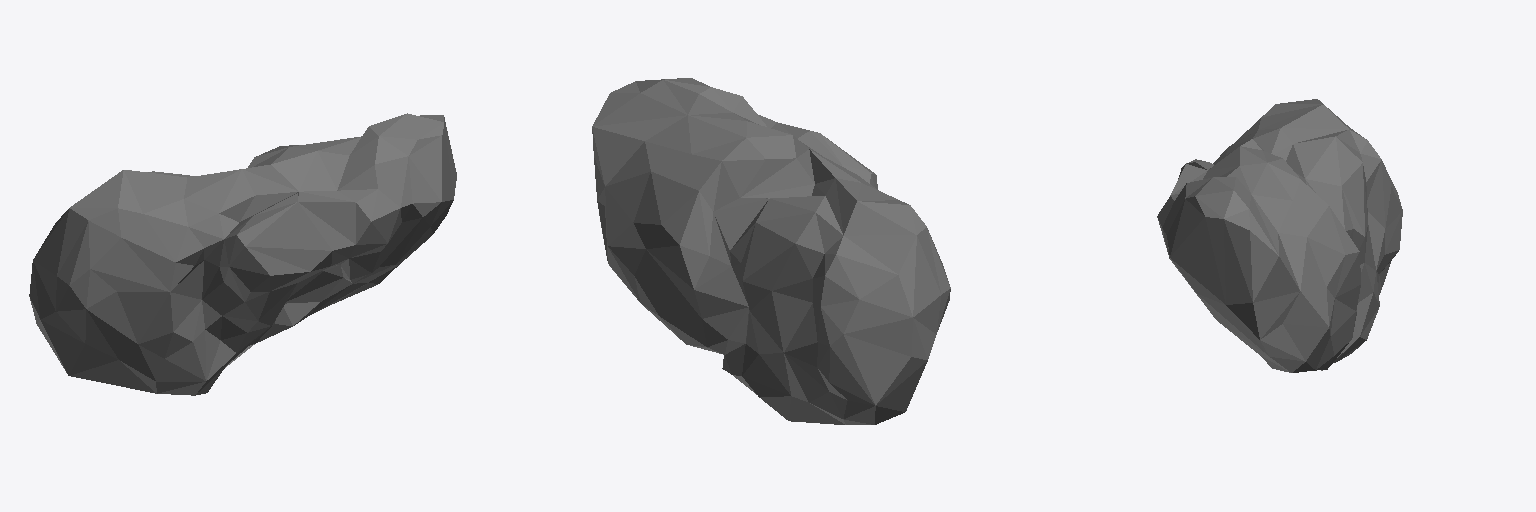
The model's file is mountain.obj.
The picture shows the model from 3 angles: view 1: azimuth 30°, elevation 25°; view 2: azimuth 150°, elevation 25°; view 3: azimuth 270°, elevation 25°; orthographic projection.
Visible parts, largest first — view 1: Low_meshId0_name; view 2: Low_meshId0_name; view 3: Low_meshId0_name.
Part boxes in pixels (x1,y1,x2,y2): Low_meshId0_name: (29,113,456,395); Low_meshId0_name: (592,78,950,424); Low_meshId0_name: (1157,99,1402,372).
Size of the model in its own units: 2 by 1.31 by 1.13.